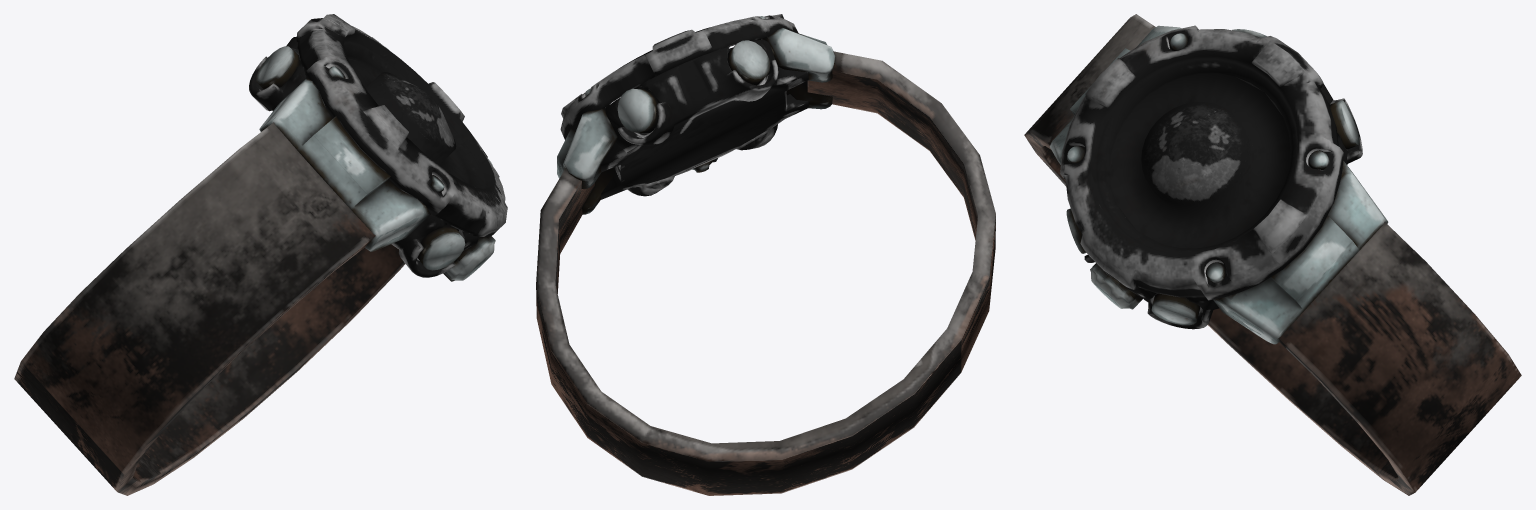
File: deagle-watch.glb
3 views of the same model, side by side, from view 1: azimuth 30°, elevation 25°; view 2: azimuth 150°, elevation 25°; view 3: azimuth 270°, elevation 25° (orthographic). The views are drawn at different scales.
Visible parts, largest first — view 1: DeagleAuthoredWatch; view 2: DeagleAuthoredWatch; view 3: DeagleAuthoredWatch.
Part boxes in pixels (left/top/right/bottom): DeagleAuthoredWatch: left=14, top=14, right=507, bottom=495; DeagleAuthoredWatch: left=536, top=14, right=995, bottom=495; DeagleAuthoredWatch: left=1024, top=14, right=1521, bottom=495.
Size of the model in its own units: 0.0668 by 0.0654 by 0.0618.
2 materials, 2 textured.
